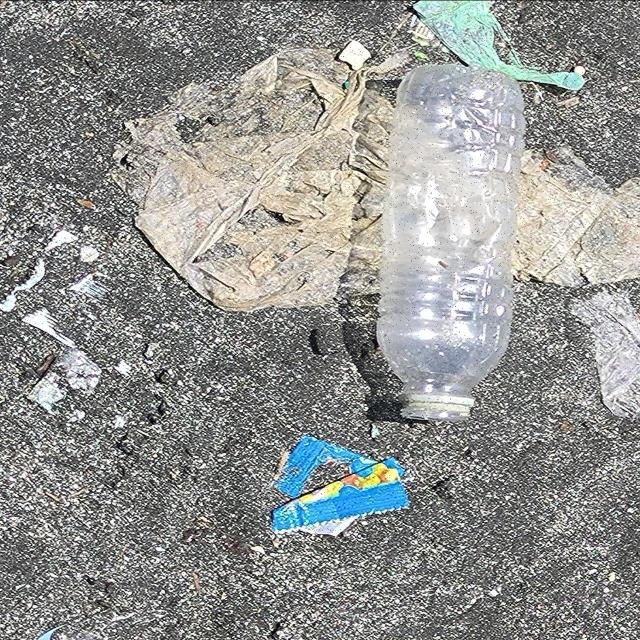plastic_waste: (374, 63, 528, 425), (412, 2, 586, 93), (271, 435, 413, 539)
